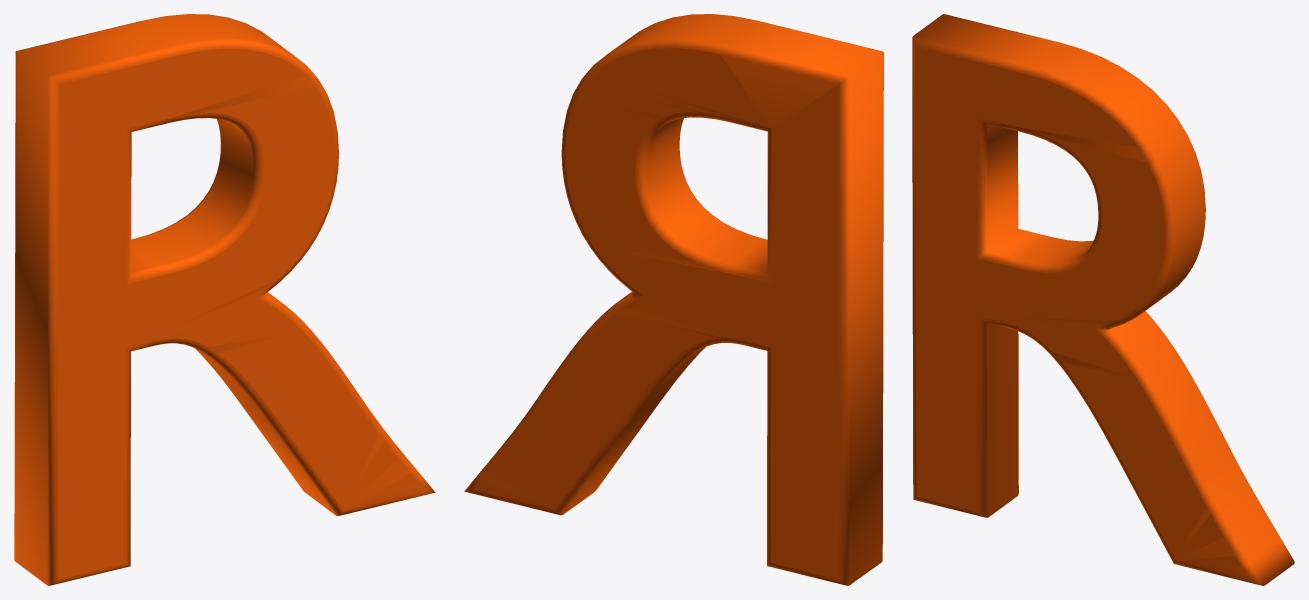
The picture shows the model from 3 angles, left to right: view 1: azimuth 30°, elevation 25°; view 2: azimuth 150°, elevation 25°; view 3: azimuth 330°, elevation 25°; orthographic projection. The views are drawn at different scales.
Visible parts, largest first — view 1: RR; view 2: RR; view 3: RR.
Part boxes in pixels (x1,y1,x2,y2): RR: (14, 14, 435, 585); RR: (464, 14, 883, 585); RR: (912, 14, 1294, 585).
Bounding box in the file's own units: 0.3964 × 0.5 × 0.0741.
